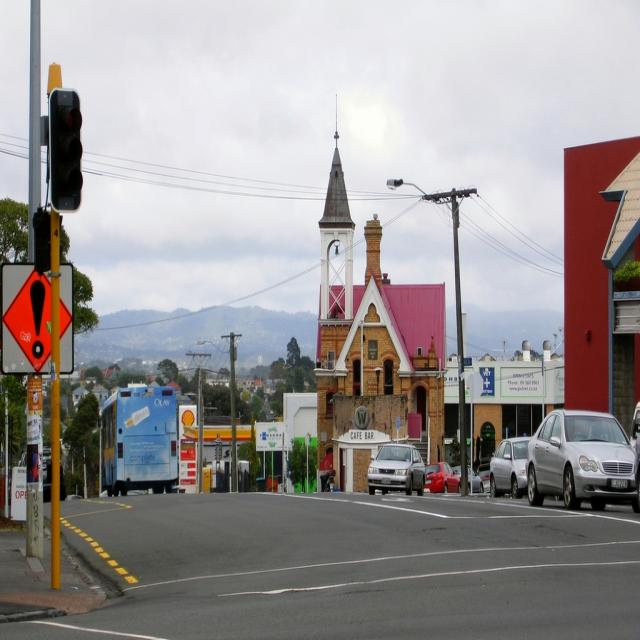car: (365, 440, 427, 492)
